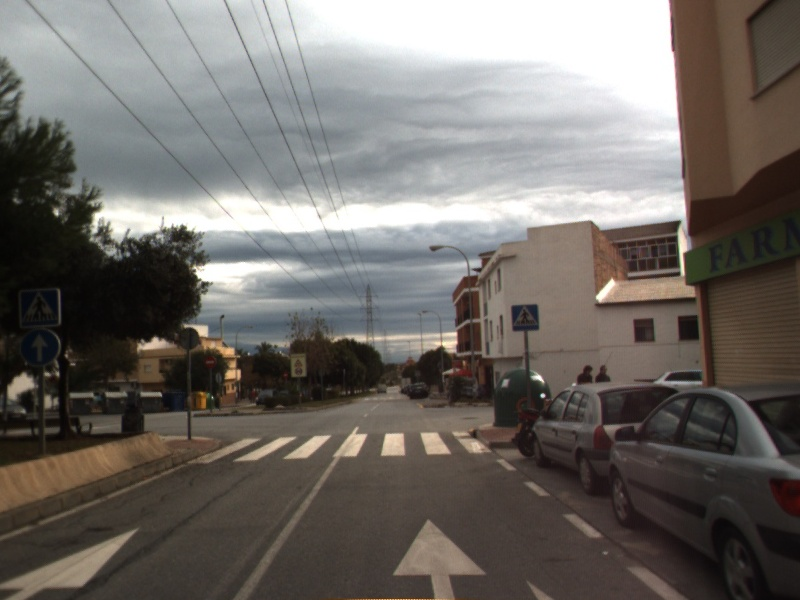STRAIGHT: (1, 524, 143, 600), (390, 516, 489, 600)
